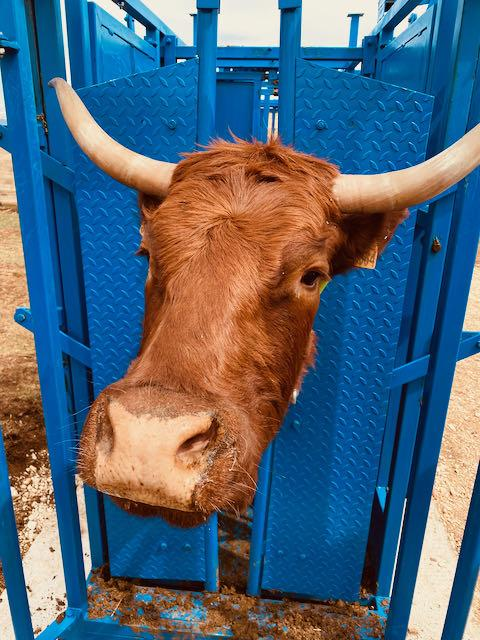muzzles: (70, 388, 263, 530)
